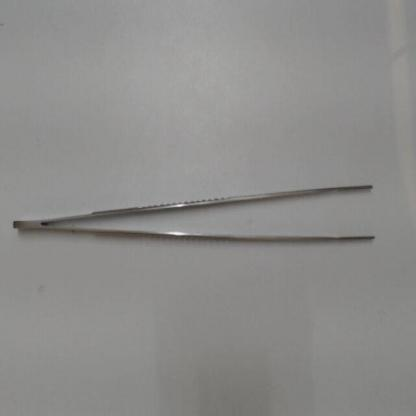DeBakey Dissector: (7, 178, 393, 273)
